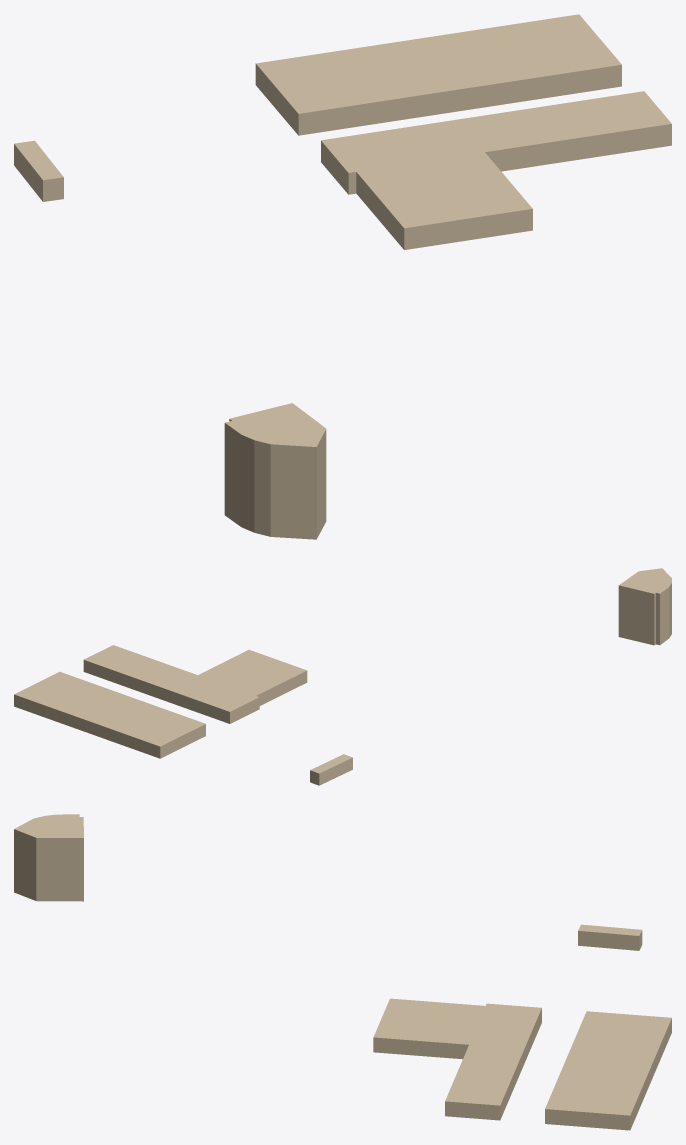
The model's file is -21_13-estimated-coarse.glb.
3 views of the same model, one above another, from view 1: azimuth 30°, elevation 25°; view 2: azimuth 150°, elevation 25°; view 3: azimuth 270°, elevation 25° (orthographic). The views are drawn at different scales.
Size of the model in its own units: 436 by 51 by 480.
